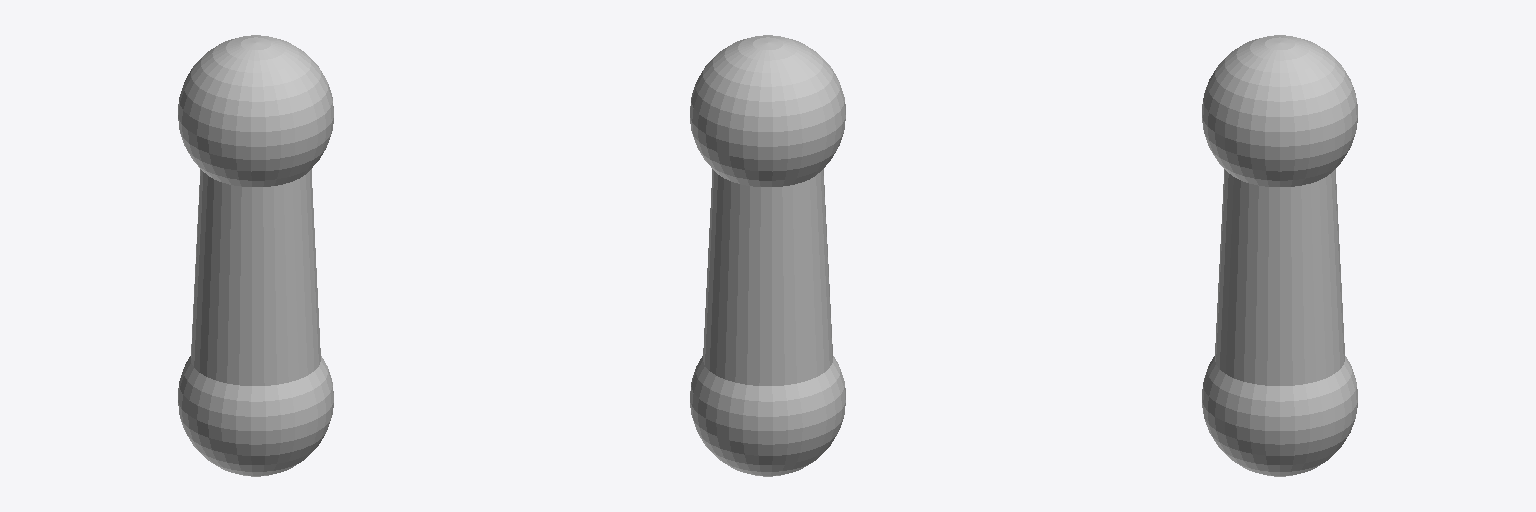
The model's file is basic_bone.obj.
3 views of the same model, side by side, from view 1: azimuth 30°, elevation 25°; view 2: azimuth 150°, elevation 25°; view 3: azimuth 270°, elevation 25° (orthographic).
Parts seen in each view (by area): view 1: Sphere.001; view 2: Sphere.001; view 3: Sphere.001.
Part boxes in pixels (left/top/right/bottom): Sphere.001: left=178, top=35, right=333, bottom=476; Sphere.001: left=690, top=35, right=845, bottom=476; Sphere.001: left=1202, top=35, right=1357, bottom=476.
Size of the model in its own units: 0.5 by 1.5 by 0.5.